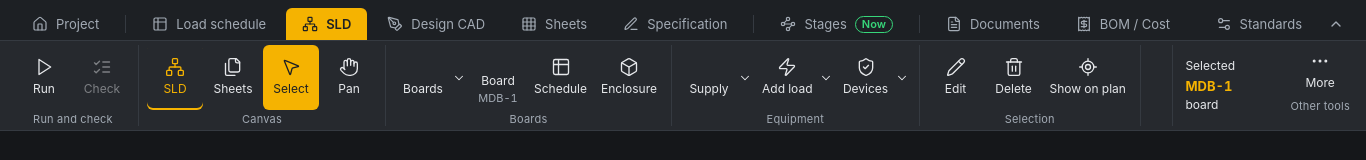
Test case: the SLD tab › has Show on plan after Delete: it needs a selection and the SLD actions, and asks the page to show it
What coordinates should you click on to do the following:
click the button "Show on plan"
I would click on:
 (1088, 78)
Its box is x1=1044 y1=45 x2=1132 y2=110.
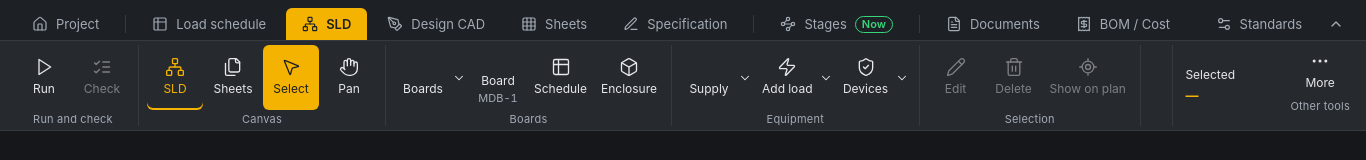
Check: the button "Show on plan" is disabled, box x1=1044 y1=45 x2=1132 y2=110
Check: the button "Delete" is disabled, box x1=986 y1=45 x2=1042 y2=110
